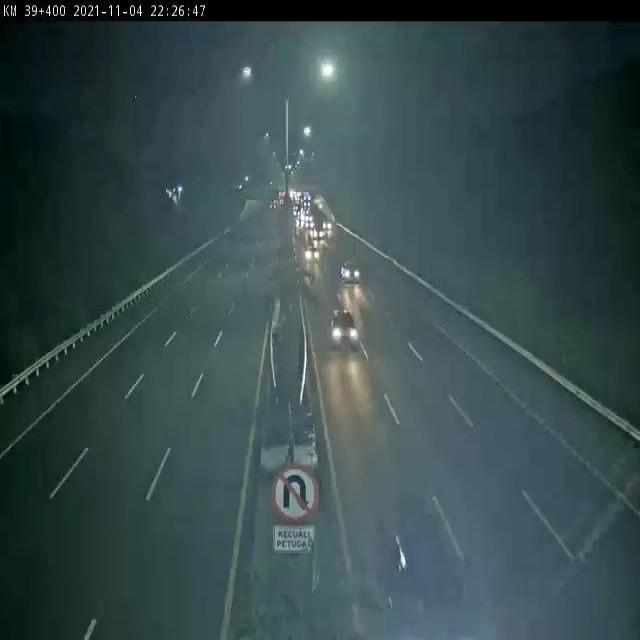Car: (362, 486, 483, 637), (323, 300, 368, 360), (338, 257, 364, 288)
